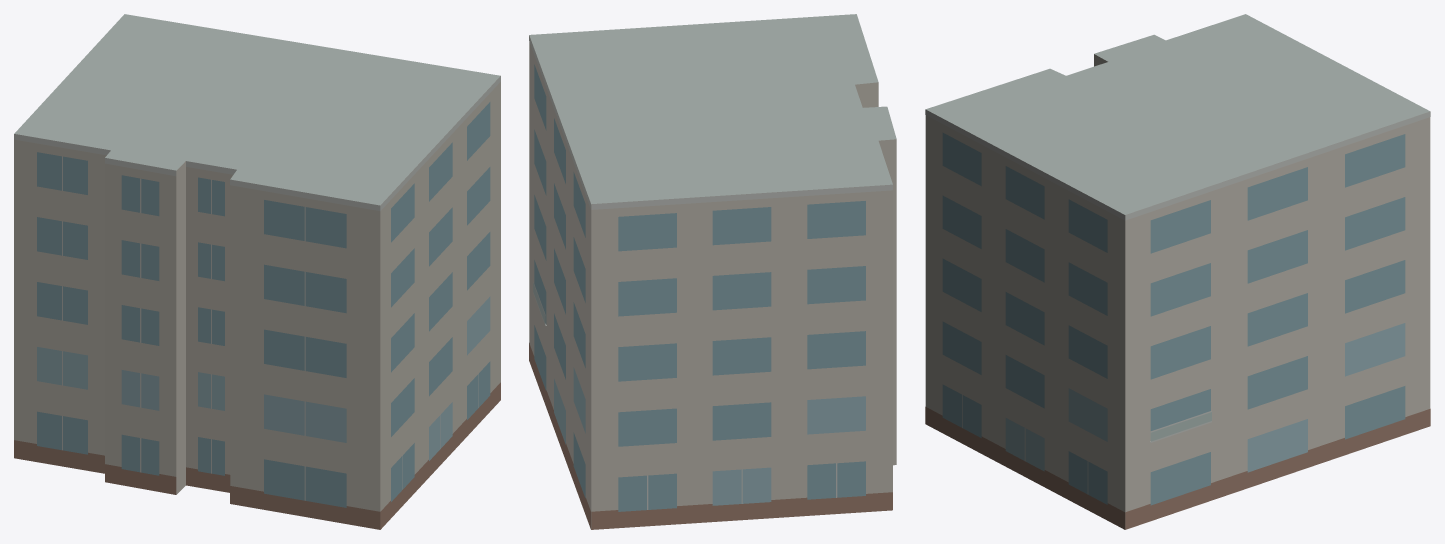
File: survey-upis-32657358.glb
3 views of the same model, side by side, from view 1: azimuth 30°, elevation 25°; view 2: azimuth 150°, elevation 25°; view 3: azimuth 270°, elevation 25° (orthographic). The views are drawn at different scales.
Parts seen in each view (by area): view 1: survey-upis-32657358.tmp; view 2: survey-upis-32657358.tmp; view 3: survey-upis-32657358.tmp.
Boxes of the visible parts, box(x1,y1,x2,y2) form: survey-upis-32657358.tmp: box(14, 14, 500, 529); survey-upis-32657358.tmp: box(529, 14, 896, 529); survey-upis-32657358.tmp: box(925, 14, 1430, 529).
Size of the model in its own units: 18.84 by 13.75 by 20.
